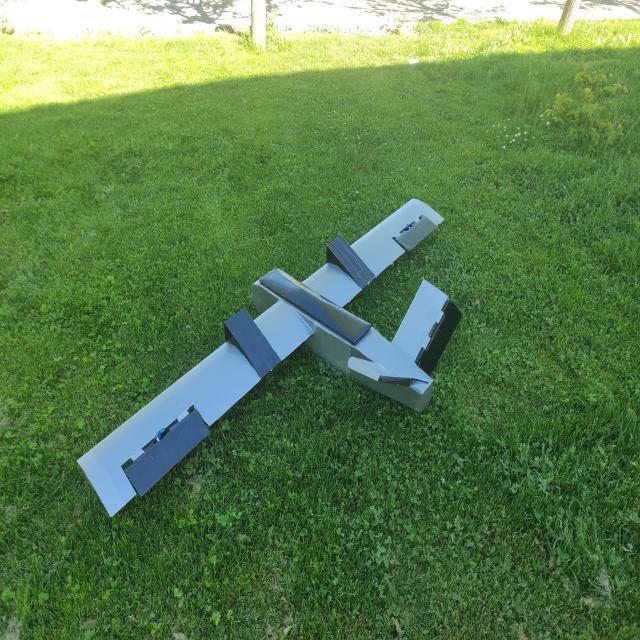UAV: (114, 168, 537, 570)
